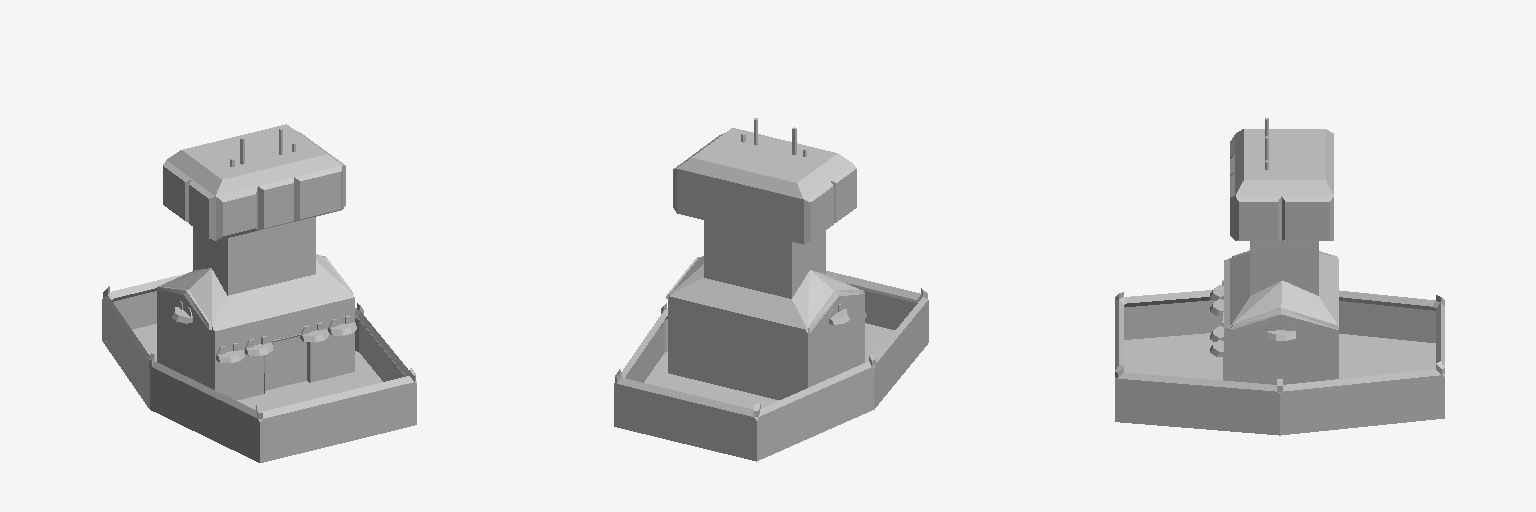
File: EngineeringLab.obj
3 renders of one model, left to right at view 1: azimuth 30°, elevation 25°; view 2: azimuth 150°, elevation 25°; view 3: azimuth 270°, elevation 25°, orthographic.
Size of the model in its own units: 11.12 by 12.74 by 14.97.